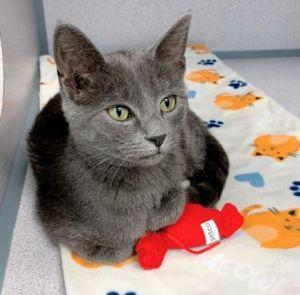rblue: (46, 8, 209, 183)
